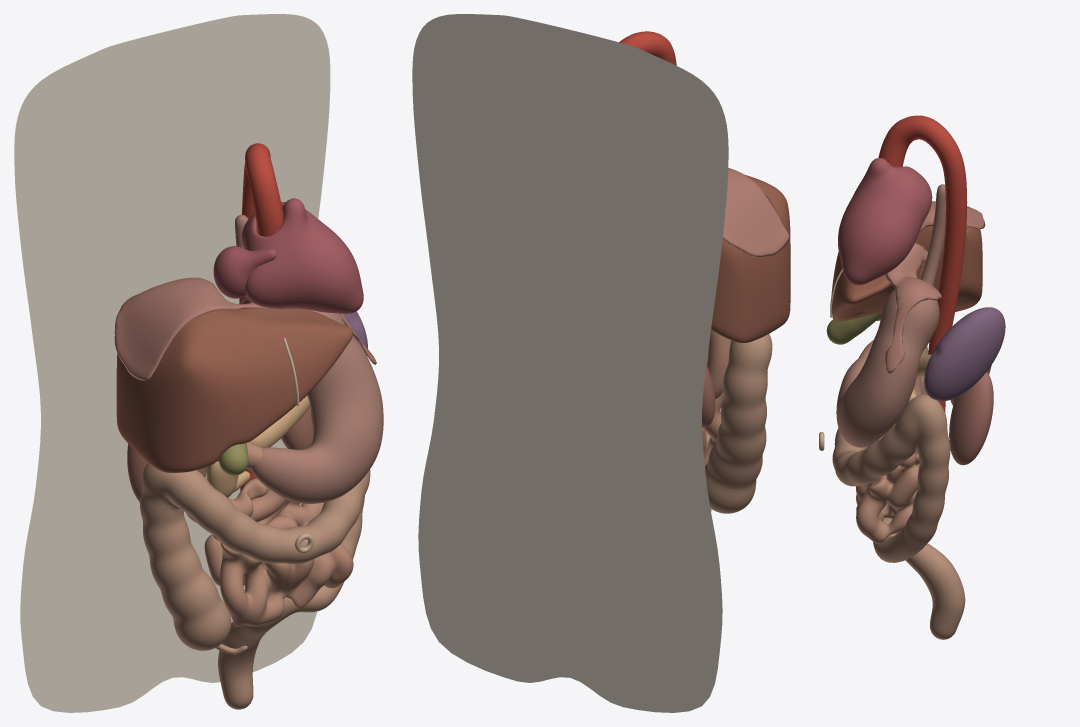
File: body-stage1.glb
3 renders of one model, left to right at view 1: azimuth 30°, elevation 25°; view 2: azimuth 150°, elevation 25°; view 3: azimuth 270°, elevation 25°, orthographic. The views are drawn at different scales.
Parts seen in each view (by area): view 1: body_plate, liver, colon, stomach, heart, small_bowel, diaphragm, aorta, right_atrium, pancreas, duodenum, kidney_left (+2 smaller); view 2: body_plate, colon, liver, diaphragm, duodenum, aorta, small_bowel, kidney_right; view 3: colon, stomach, heart, aorta, spleen, liver, small_bowel, diaphragm, kidney_left, gallbladder.
Boxes of the visible parts, bbox=[...] form: body_plate: bbox=[14, 14, 330, 712]; liver: bbox=[116, 295, 353, 472]; colon: bbox=[139, 463, 370, 709]; stomach: bbox=[235, 214, 383, 503]; heart: bbox=[241, 198, 363, 313]; small_bowel: bbox=[204, 478, 353, 626]; diaphragm: bbox=[114, 277, 376, 380]; aorta: bbox=[239, 143, 283, 490]; right_atrium: bbox=[213, 246, 276, 298]; pancreas: bbox=[206, 396, 310, 497]; duodenum: bbox=[185, 442, 286, 522]; kidney_left: bbox=[281, 406, 313, 449]; body_plate: bbox=[412, 14, 728, 712]; colon: bbox=[705, 334, 772, 513]; liver: bbox=[711, 175, 790, 342]; diaphragm: bbox=[722, 168, 789, 257]; duodenum: bbox=[707, 330, 731, 399]; aorta: bbox=[619, 31, 676, 65]; small_bowel: bbox=[702, 392, 723, 465]; kidney_right: bbox=[702, 364, 715, 427]; colon: bbox=[832, 346, 965, 639]; stomach: bbox=[836, 184, 945, 447]; heart: bbox=[838, 157, 932, 285]; aorta: bbox=[878, 115, 967, 412]; spleen: bbox=[924, 307, 1005, 400]; liver: bbox=[831, 226, 982, 321]; small_bowel: bbox=[856, 423, 919, 543]; diaphragm: bbox=[884, 201, 985, 373]; kidney_left: bbox=[949, 372, 993, 465]; gallbladder: bbox=[826, 311, 882, 344].
Size of the model in its own units: 0.3606 by 0.7245 by 0.2638.
